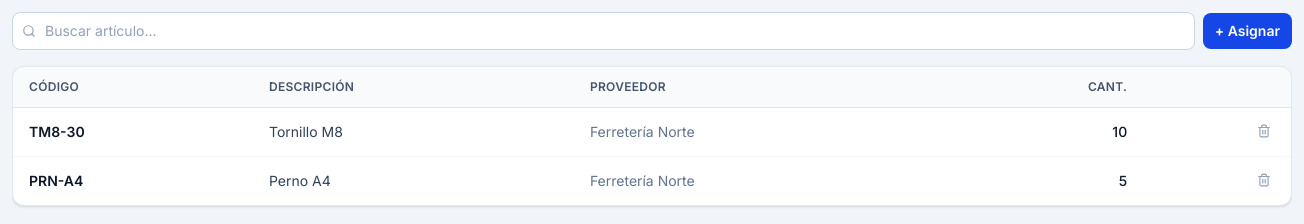
Test: ArticulosDeCaja › filtra artículos por búsqueda de texto
Type "Tornillo" into the field with placeholder "Buscar artículo..." at (603,31), box [12,12,1195,50]
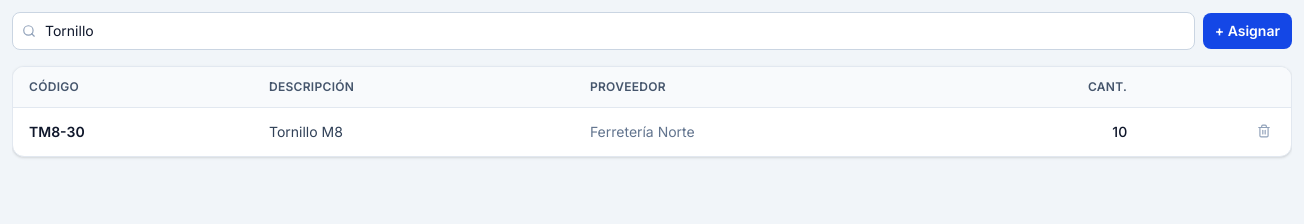
expect the text "Tornillo M8" is shown: met, box [253,108,574,156]
expect the text "Perno A4" is gone: met
